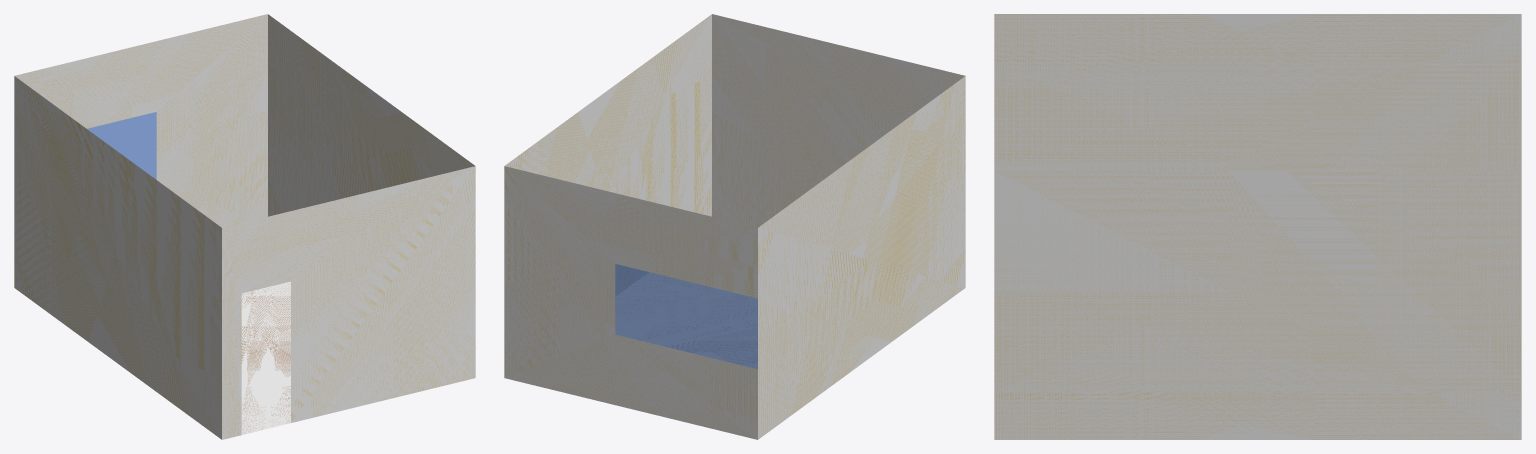
The model's file is LAB001.obj.
3 views of the same model, side by side, from view 1: azimuth 30°, elevation 25°; view 2: azimuth 150°, elevation 25°; view 3: azimuth 270°, elevation 25° (orthographic). The views are drawn at different scales.
Parts seen in each view (by area): view 1: Mesh1 LAB01 Model; view 2: Mesh1 LAB01 Model; view 3: Mesh1 LAB01 Model.
Boxes of the visible parts, x1,y1,x2,y2 form: Mesh1 LAB01 Model: (14, 14, 475, 439); Mesh1 LAB01 Model: (504, 14, 965, 439); Mesh1 LAB01 Model: (994, 14, 1521, 439).
Size of the model in its own units: 3.75 by 3 by 5.32.
Materials: 4 (1 with a texture image).
